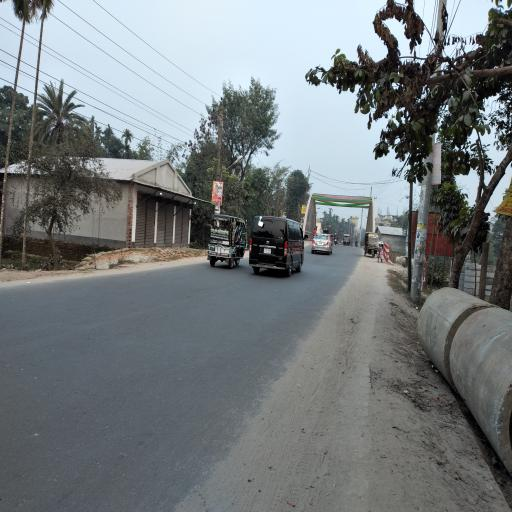auto rickshaw: (207, 214, 249, 271), (365, 233, 379, 259), (344, 235, 352, 248)
bicycle: (356, 237, 360, 249)
car: (312, 234, 334, 257)
minivan: (250, 215, 310, 280)
motorbike: (335, 231, 340, 246)
